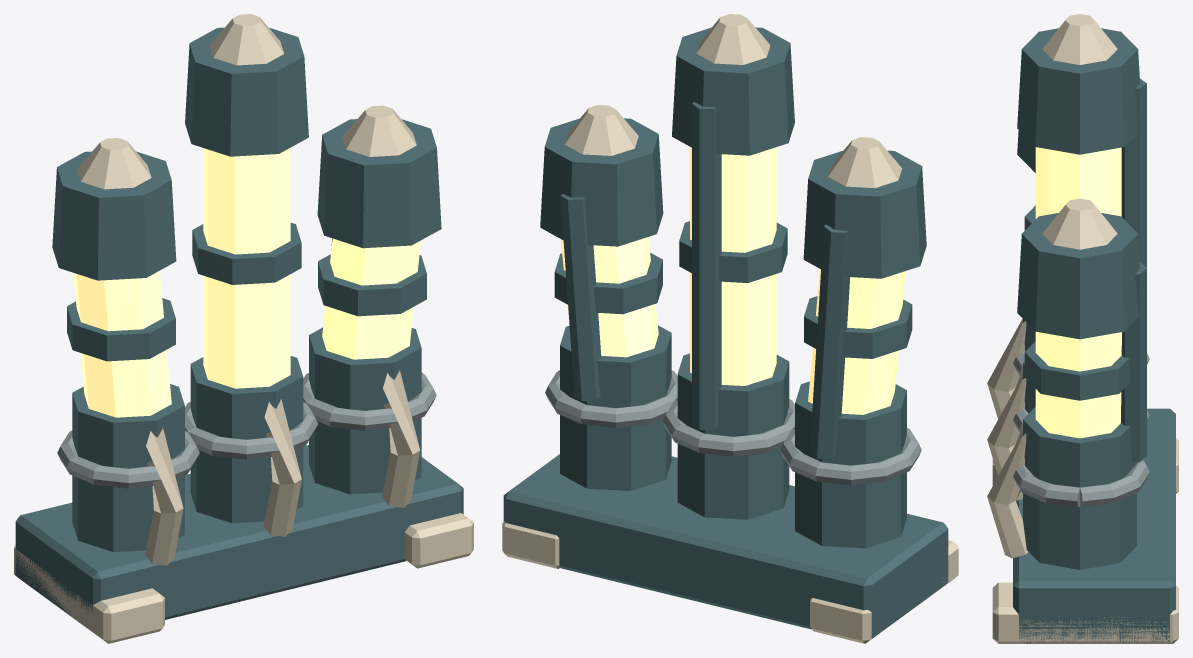
Rendered from marker_ammo.glb.
3 views of the same model, side by side, from view 1: azimuth 30°, elevation 25°; view 2: azimuth 150°, elevation 25°; view 3: azimuth 270°, elevation 25° (orthographic). The views are drawn at different scales.
Parts seen in each view (by area): view 1: marker_ammo_iron, marker_ammo_amber, marker_ammo_bone, marker_ammo_steel; view 2: marker_ammo_iron, marker_ammo_amber, marker_ammo_bone, marker_ammo_steel; view 3: marker_ammo_iron, marker_ammo_bone, marker_ammo_amber, marker_ammo_steel.
Boxes of the visible parts, x1=… form: marker_ammo_iron: x1=15, y1=27, x2=463, y2=626; marker_ammo_amber: x1=73, y1=148, x2=420, y2=417; marker_ammo_bone: x1=14, y1=14, x2=473, y2=643; marker_ammo_steel: x1=57, y1=373, x2=436, y2=488; marker_ammo_iron: x1=503, y1=27, x2=948, y2=641; marker_ammo_amber: x1=560, y1=147, x2=905, y2=414; marker_ammo_bone: x1=502, y1=14, x2=958, y2=643; marker_ammo_steel: x1=545, y1=370, x2=921, y2=485; marker_ammo_iron: x1=1013, y1=28, x2=1175, y2=643; marker_ammo_bone: x1=987, y1=14, x2=1178, y2=643; marker_ammo_amber: x1=1035, y1=147, x2=1121, y2=438; marker_ammo_steel: x1=1013, y1=351, x2=1149, y2=506.
Bounding box in the file's own units: 0.7312 × 1.02 × 0.3297.
